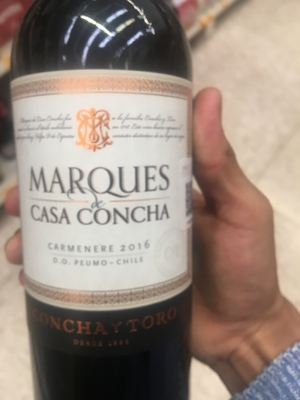marques de casa concha carmenere: (10, 9, 221, 400)
